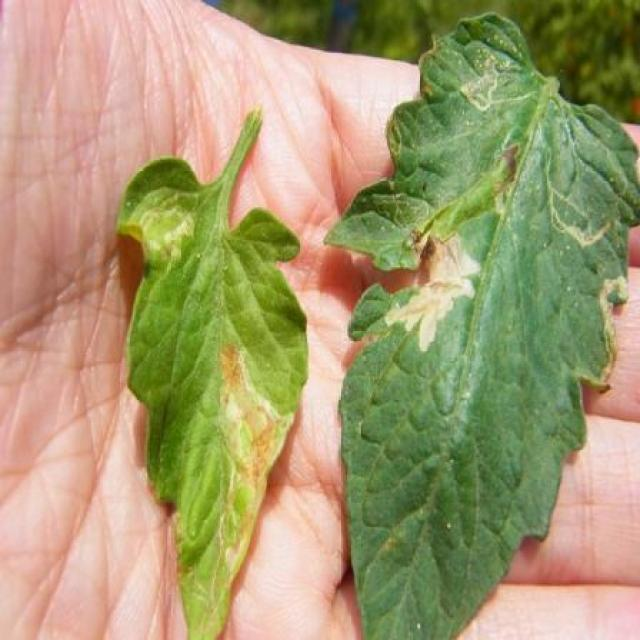Leaf Miner: (324, 1, 640, 640), (115, 152, 304, 639)
